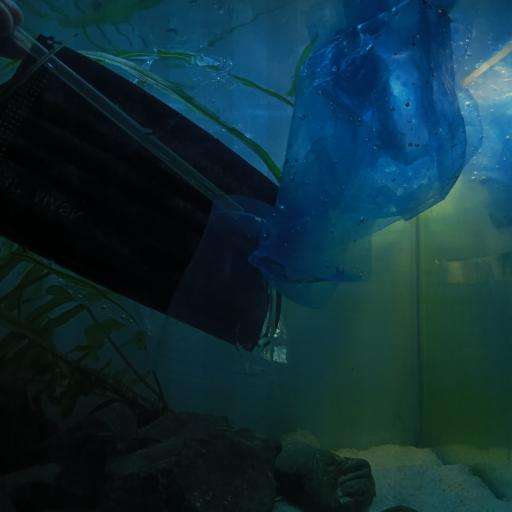mask: (2, 33, 284, 355)
plastic_bag: (253, 0, 482, 303)
plastic_cup: (163, 191, 285, 378)
plastic_straw: (12, 25, 242, 218)
